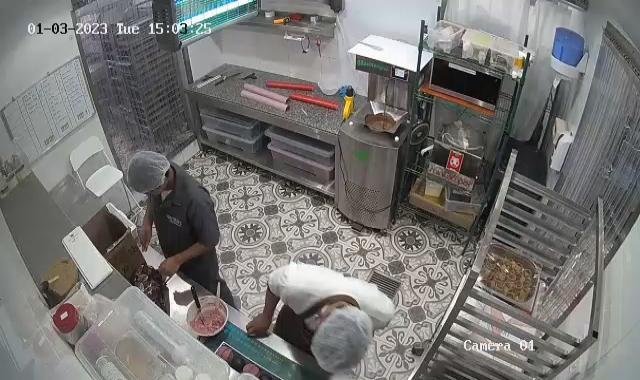hairnet: (310, 308, 373, 371), (124, 149, 174, 195)
